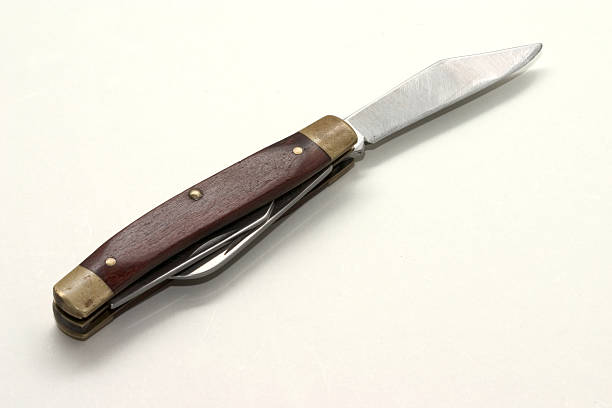knife: (342, 42, 545, 150)
